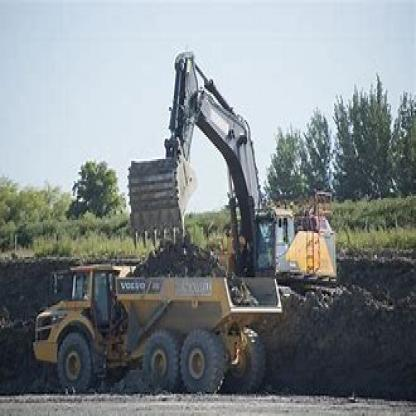dump_truck: (26, 255, 285, 396)
